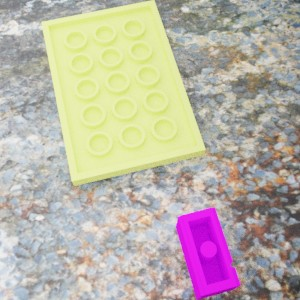lego: (41, 0, 205, 186), (175, 207, 240, 300)
